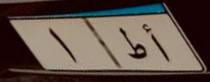1: (43, 22, 79, 64)
أ: (142, 21, 180, 59)
ط: (102, 23, 153, 54)
